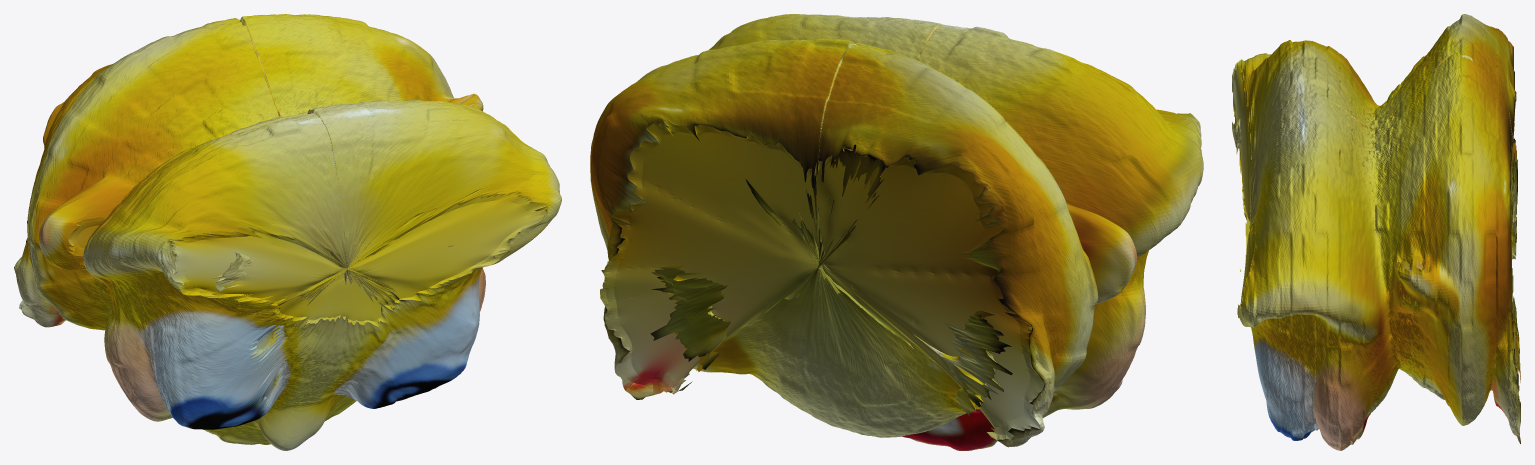
The model's file is membrane3_mesh.glb.
3 views of the same model, side by side, from view 1: azimuth 30°, elevation 25°; view 2: azimuth 150°, elevation 25°; view 3: azimuth 270°, elevation 25° (orthographic). The views are drawn at different scales.
Parts seen in each view (by area): view 1: ipn, fill; view 2: ipn, fill; view 3: ipn, fill.
Boxes of the visible parts, x1,y1,x2,y2 form: ipn: [14, 14, 561, 450]; fill: [63, 93, 547, 409]; ipn: [590, 14, 1203, 450]; fill: [600, 113, 1190, 440]; ipn: [1232, 14, 1520, 450]; fill: [1232, 59, 1520, 442].
Bounding box in the file's own units: 1.99 × 1.62 × 1.12.
Materials: 2 (1 with a texture image).
